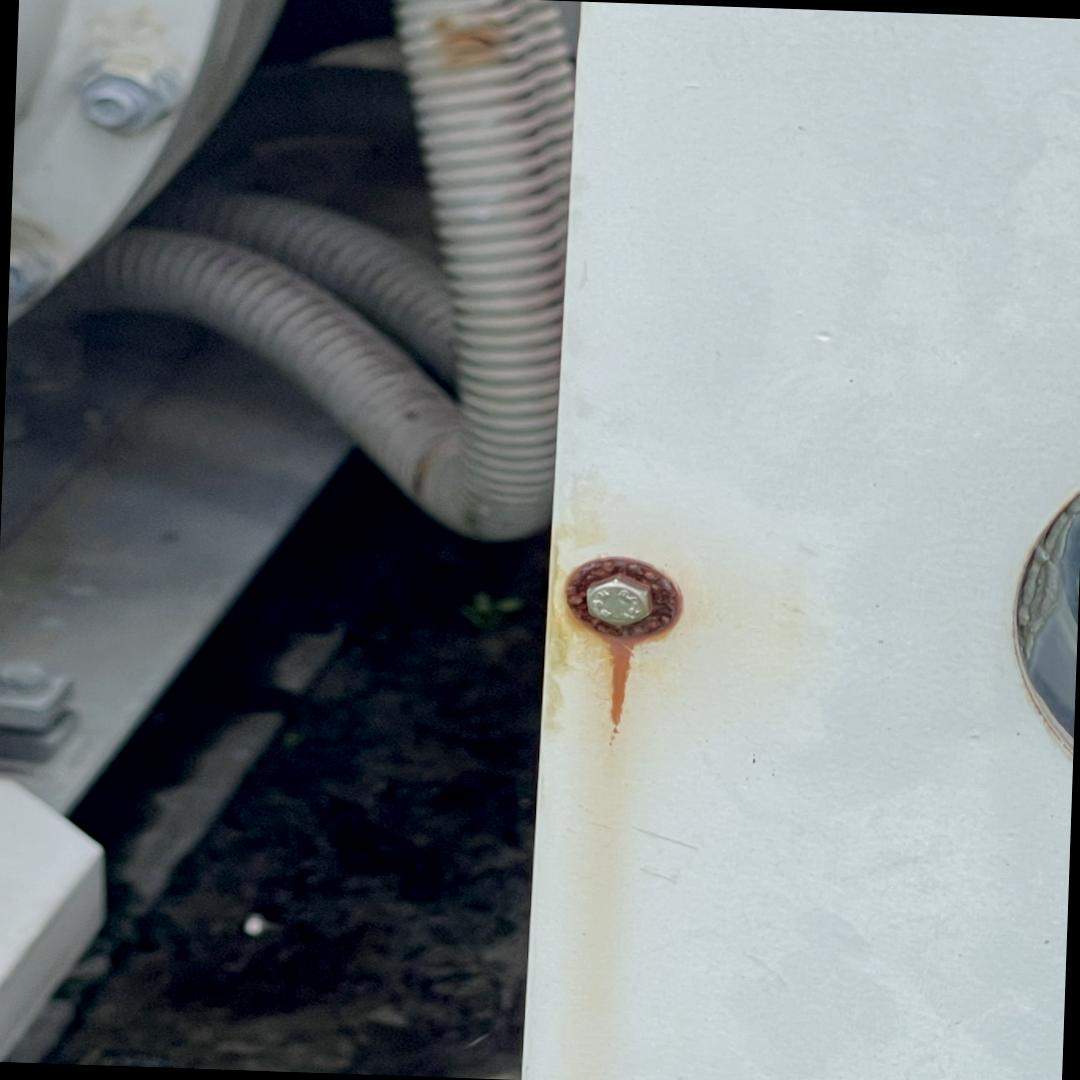Metal: (517, 1, 1080, 1080)
Metal corroido: (564, 555, 679, 731)
Tornillo sin corrosion: (585, 580, 648, 626)
